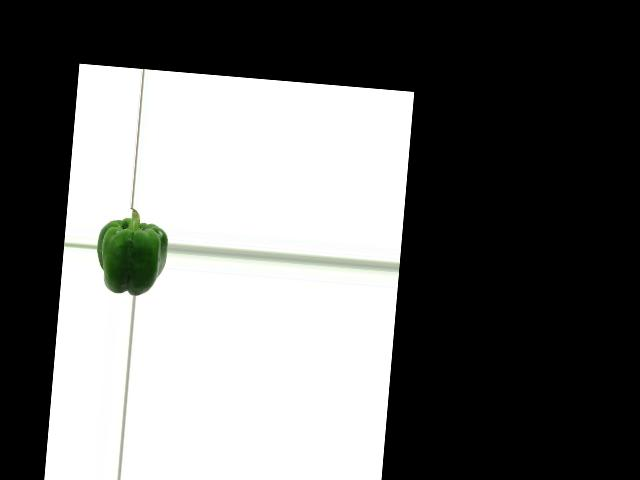bell_pepper: (93, 207, 169, 298)
